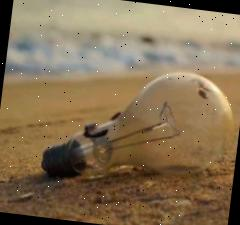lightbulb: (38, 54, 239, 198)
